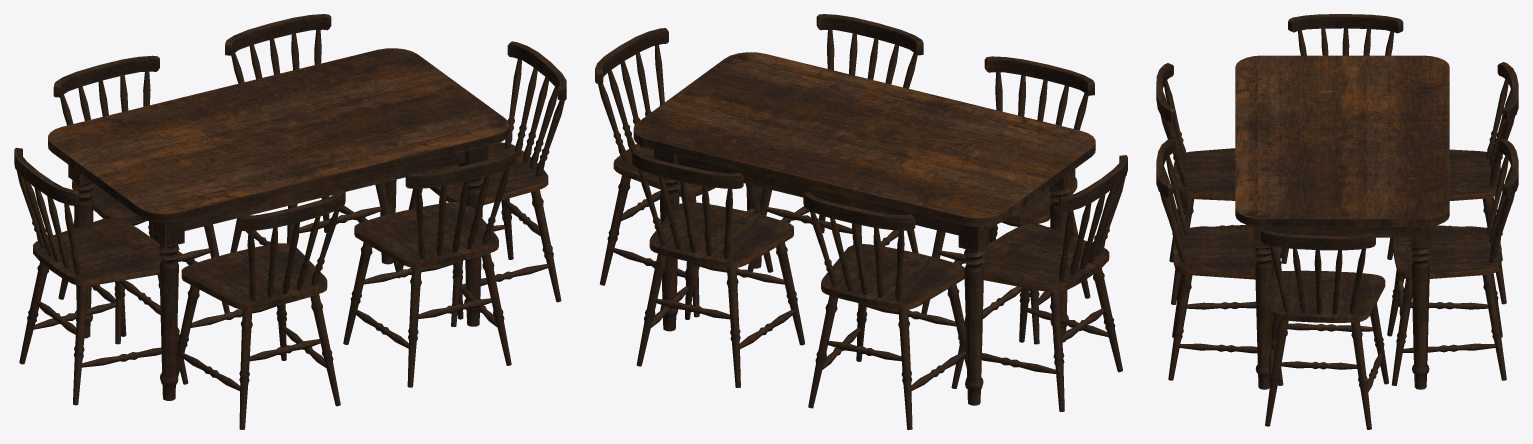
The model's file is table_and_chairs.dae.
The picture shows the model from 3 angles, left to right: view 1: azimuth 30°, elevation 25°; view 2: azimuth 150°, elevation 25°; view 3: azimuth 270°, elevation 25°; orthographic projection. The views are drawn at different scales.
Parts seen in each view (by area): view 1: Table, Chair.003, Chair.002, Chair.005, Chair.004, Chair, Chair.001; view 2: Table, Chair.001, Chair, Chair.005, Chair.004, Chair.003, Chair.002; view 3: Table, Chair.004, Chair.001, Chair.002, Chair.003, Chair, Chair.005.
Boxes of the visible parts, x1,y1,x2,y2 form: Table: (48,48,509,400); Chair.003: (176,190,345,429); Chair.002: (343,150,516,387); Chair.005: (14,147,188,405); Chair.004: (396,41,566,326); Chair: (53,55,229,344); Chair.001: (225,14,397,271); Table: (633,52,1095,405); Chair.001: (632,150,804,387); Chair: (803,192,966,429); Chair.005: (951,155,1127,411); Chair.004: (595,28,773,317); Chair.003: (921,56,1094,344); Chair.002: (747,14,923,271); Table: (1235,55,1449,389); Chair.004: (1261,229,1388,429); Chair.001: (1387,138,1518,385); Chair.002: (1156,138,1287,385); Chair.003: (1156,63,1282,304); Chair: (1387,62,1518,304); Chair.005: (1281,14,1403,263).
Size of the model in its own units: 2.07 by 1.41 by 0.845.
2 materials, 2 textured.
